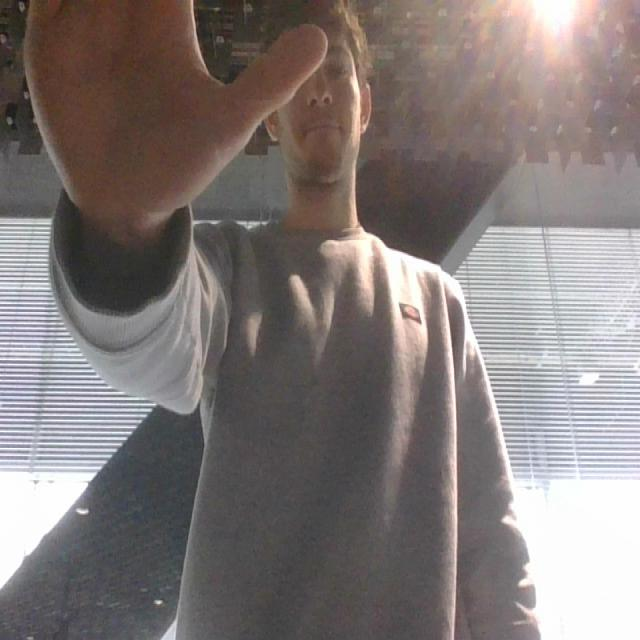backward: (0, 0, 333, 252)
